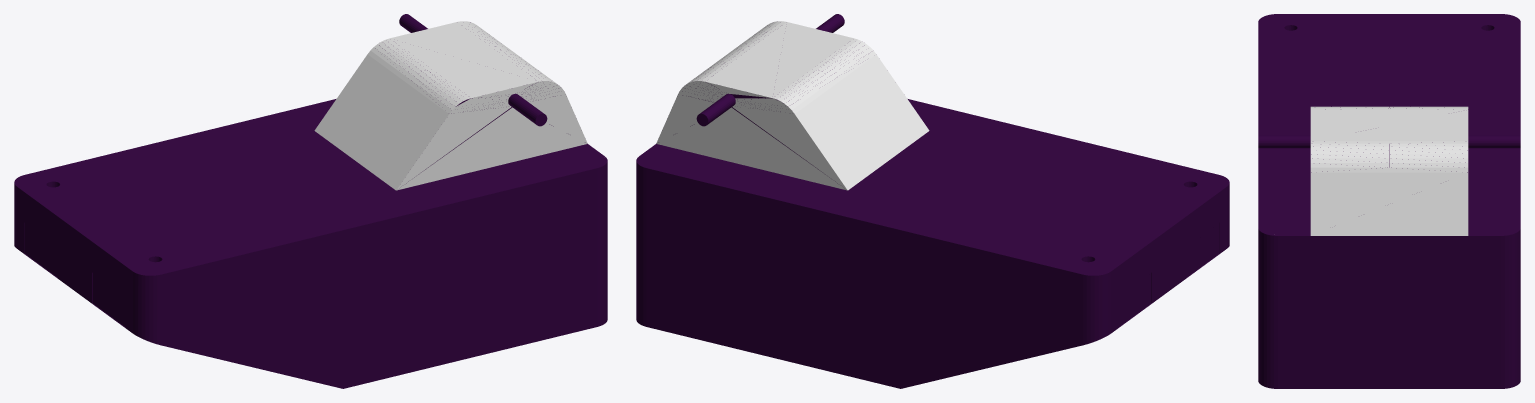
File: base_link_ref.dae
The picture shows the model from 3 angles, left to right: view 1: azimuth 30°, elevation 25°; view 2: azimuth 150°, elevation 25°; view 3: azimuth 270°, elevation 25°; orthographic projection. The views are drawn at different scales.
Visible parts, largest first — view 1: Base Link; view 2: Base Link; view 3: Base Link.
Boxes of the visible parts, <box> form: Base Link: <box>14,14,607,388</box>; Base Link: <box>636,14,1229,388</box>; Base Link: <box>1258,14,1520,388</box>.
Bounding box in the file's own units: 0.8 × 0.4 × 0.3773.
